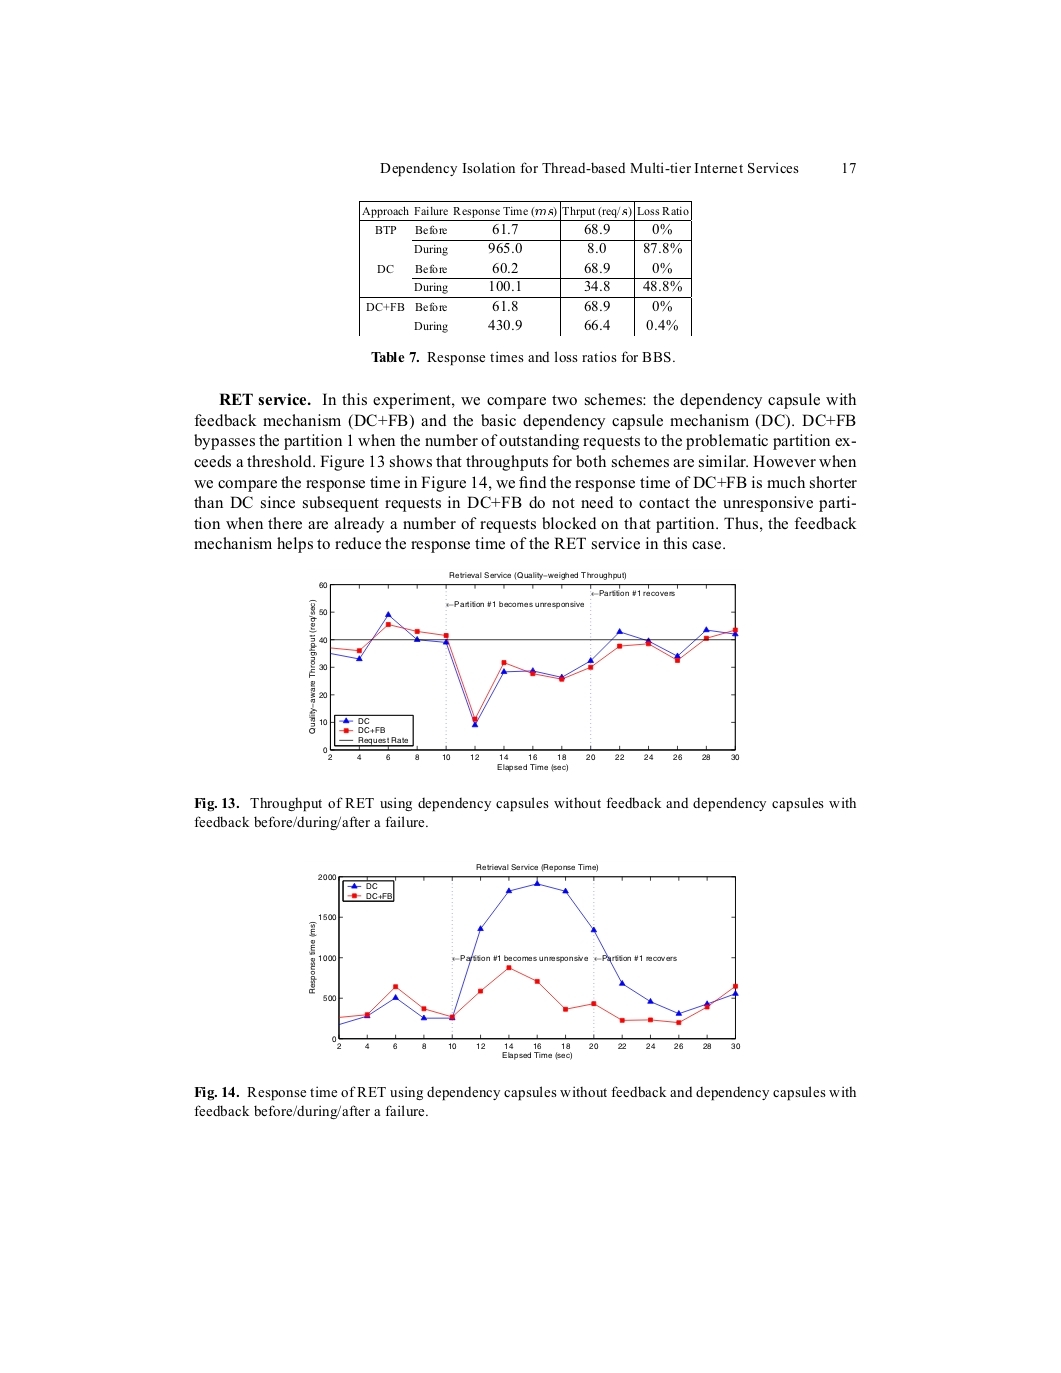Table: (359, 199, 691, 335)
figure: (309, 861, 740, 1060), (309, 580, 739, 771)
